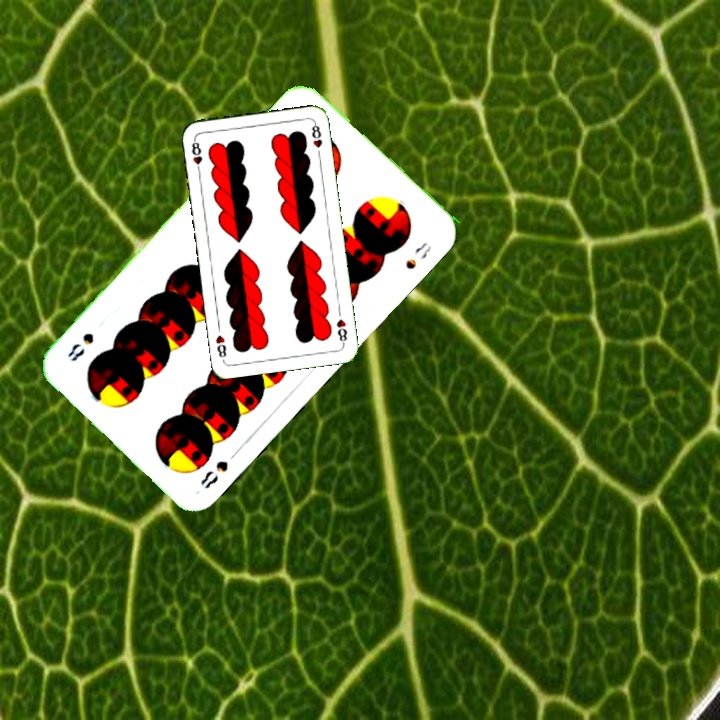H8: (187, 135, 205, 176), (332, 315, 350, 347)
S8: (196, 445, 242, 492)
